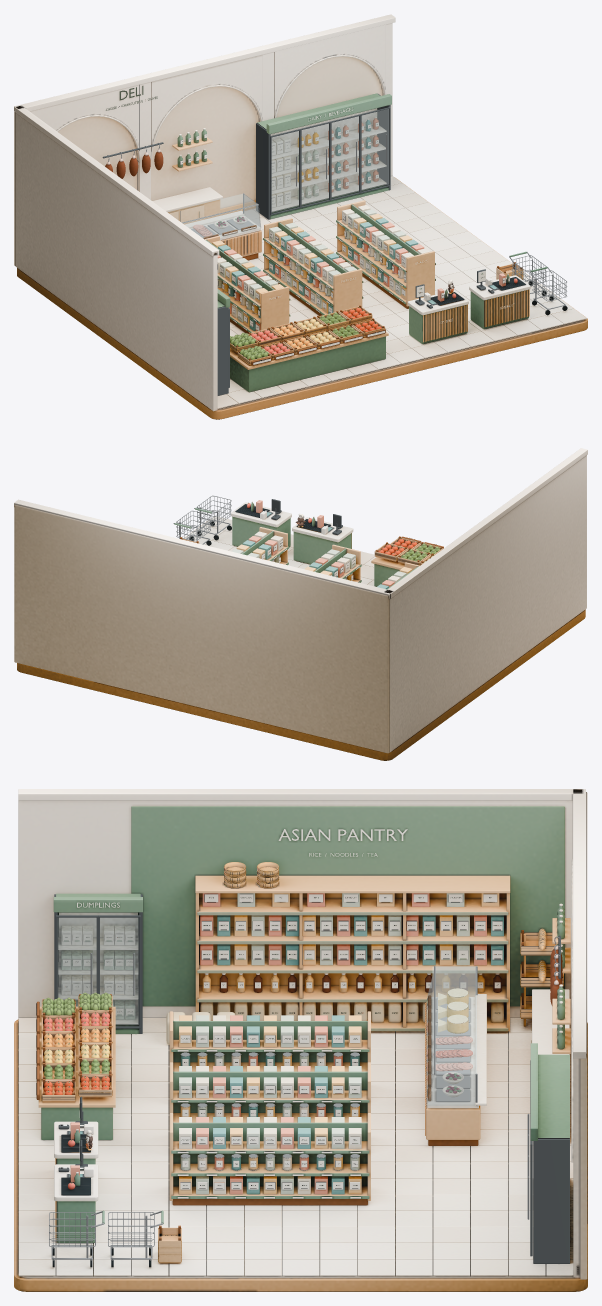
File: supermarket-baked.glb
3 views of the same model, one above another, from view 1: azimuth 30°, elevation 25°; view 2: azimuth 150°, elevation 25°; view 3: azimuth 270°, elevation 25° (orthographic). The views are drawn at different scales.
Parts seen in each view (by area): view 1: Baked supermarket architecture, Baked supermarket details, Live glass and reflective metal; view 2: Baked supermarket architecture, Baked supermarket details, Live glass and reflective metal; view 3: Baked supermarket architecture, Baked supermarket details, Live glass and reflective metal.
Boxes of the visible parts, <box> form: Baked supermarket architecture: <box>14,14,587,419</box>; Baked supermarket details: <box>105,86,586,408</box>; Live glass and reflective metal: <box>102,93,567,395</box>; Baked supermarket architecture: <box>14,448,587,760</box>; Baked supermarket details: <box>174,500,443,589</box>; Live glass and reflective metal: <box>173,495,352,578</box>; Baked supermarket architecture: <box>14,789,587,1291</box>; Baked supermarket details: <box>18,862,573,1276</box>; Live glass and reflective metal: <box>49,894,569,1263</box>.
Size of the model in its own units: 13.21 by 5.62 by 12.18.
Materials: 6 (2 with a texture image).
